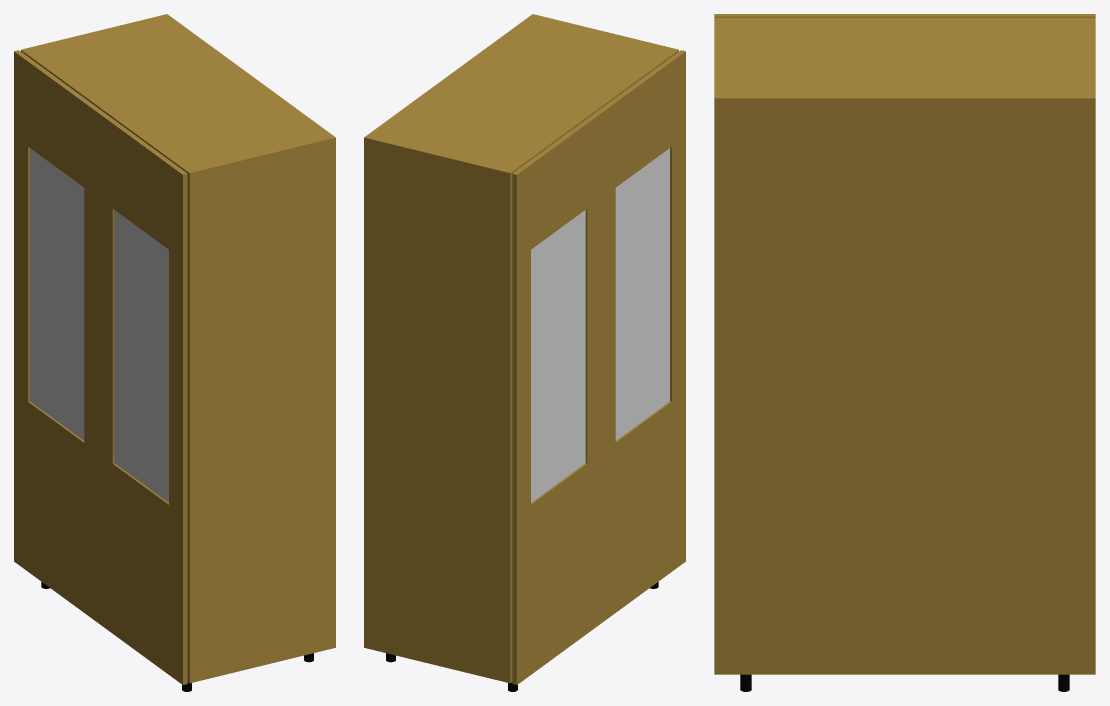
File: PPE_CUPBOARD.fbx
3 renders of one model, left to right at view 1: azimuth 30°, elevation 25°; view 2: azimuth 150°, elevation 25°; view 3: azimuth 270°, elevation 25°, orthographic. The views are drawn at different scales.
Parts seen in each view (by area): view 1: CupBoard, Door2, Door1, Cube.008, Cube.009; view 2: CupBoard, Door1, Door2, Cube.008, Cube.009; view 3: CupBoard, Door1, Door2.
Part boxes in pixels (left/top/right/bottom): CupBoard: left=21, top=14, right=335, bottom=683; Door2: left=98, top=112, right=187, bottom=684; Door1: left=14, top=50, right=102, bottom=622; Cube.008: left=30, top=148, right=84, bottom=440; Cube.009: left=114, top=210, right=168, bottom=502; CupBoard: left=364, top=14, right=678, bottom=683; Door1: left=512, top=112, right=601, bottom=684; Door2: left=597, top=50, right=685, bottom=622; Cube.008: left=531, top=210, right=585, bottom=502; Cube.009: left=615, top=148, right=669, bottom=440; CupBoard: left=714, top=17, right=1095, bottom=674; Door1: left=905, top=14, right=1095, bottom=17; Door2: left=714, top=14, right=904, bottom=17.
Bounding box in the file's own units: 62.8 × 208 × 120.
